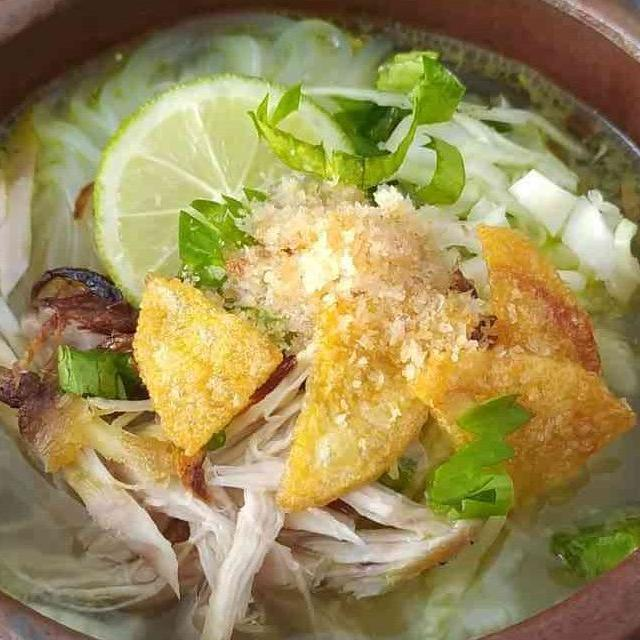Soto: (1, 12, 638, 637)
